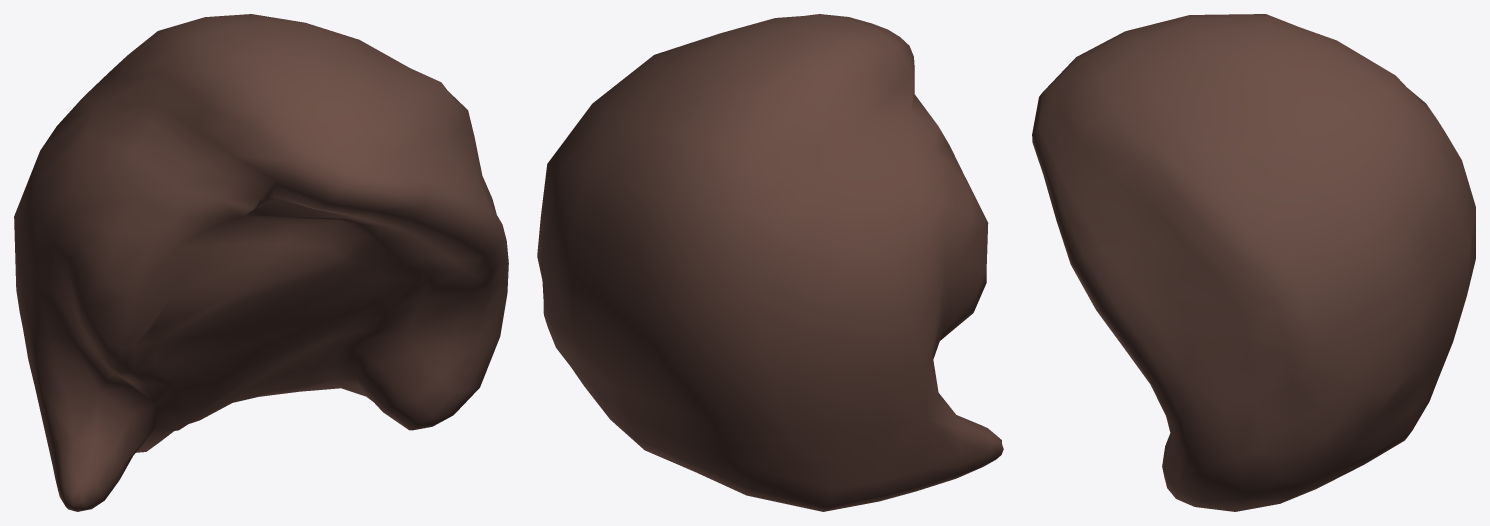
File: Hairstyle_Female_07.glb
3 views of the same model, side by side, from view 1: azimuth 30°, elevation 25°; view 2: azimuth 150°, elevation 25°; view 3: azimuth 270°, elevation 25° (orthographic). The views are drawn at different scales.
Visible parts, largest first — view 1: Hairstyle_Female_07; view 2: Hairstyle_Female_07; view 3: Hairstyle_Female_07.
Part boxes in pixels (left/top/right/bottom): Hairstyle_Female_07: left=14, top=14, right=508, bottom=511; Hairstyle_Female_07: left=537, top=14, right=1003, bottom=511; Hairstyle_Female_07: left=1032, top=14, right=1475, bottom=511.
Bounding box in the file's own units: 0.6876 × 0.623 × 0.6043.
Materials: 1 (1 with a texture image).
